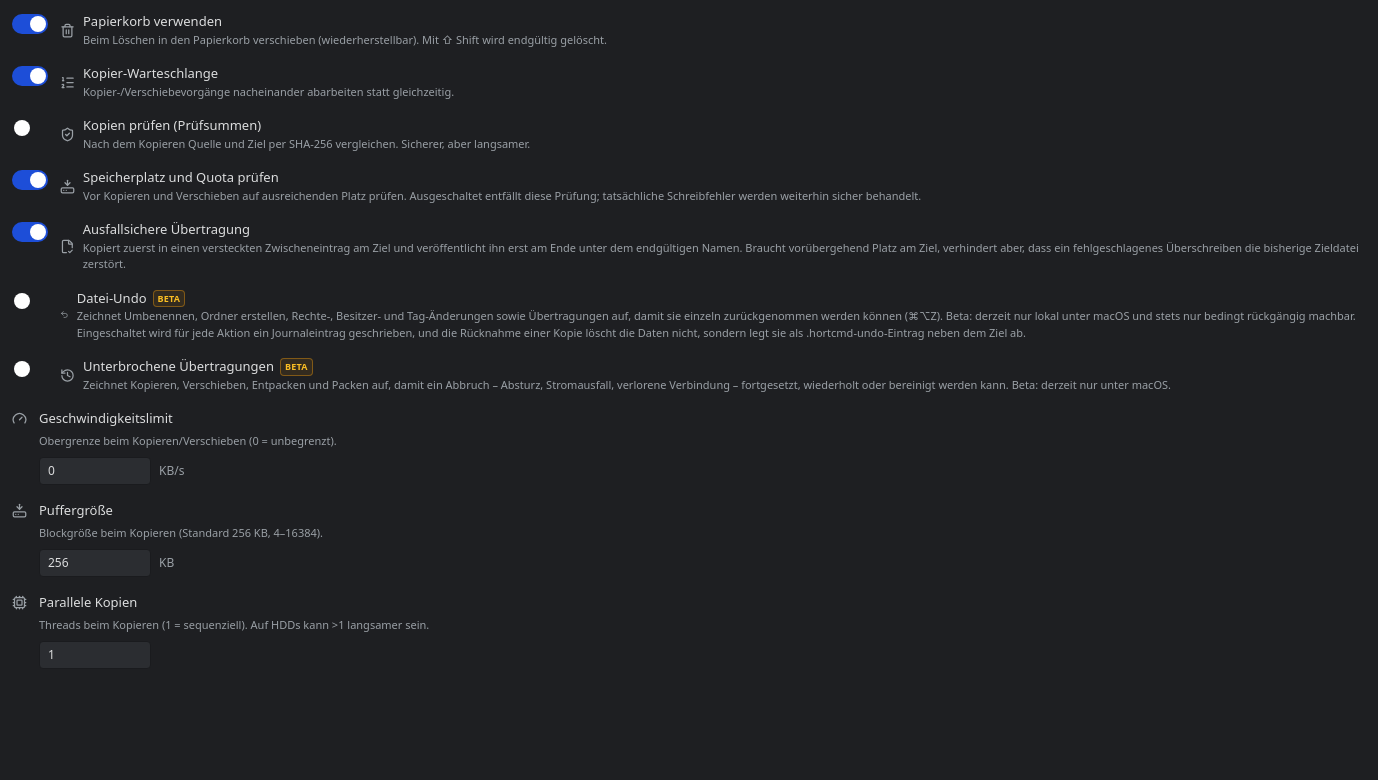
Test: File operations › offers file undo off, marked BETA, and warns once it is on
Expected: the label "Datei-Undo" shows "BETA", [158,292,180,304]
Click the switch named "Datei-Undo". click: (30, 300)
box: [12,290,48,310]
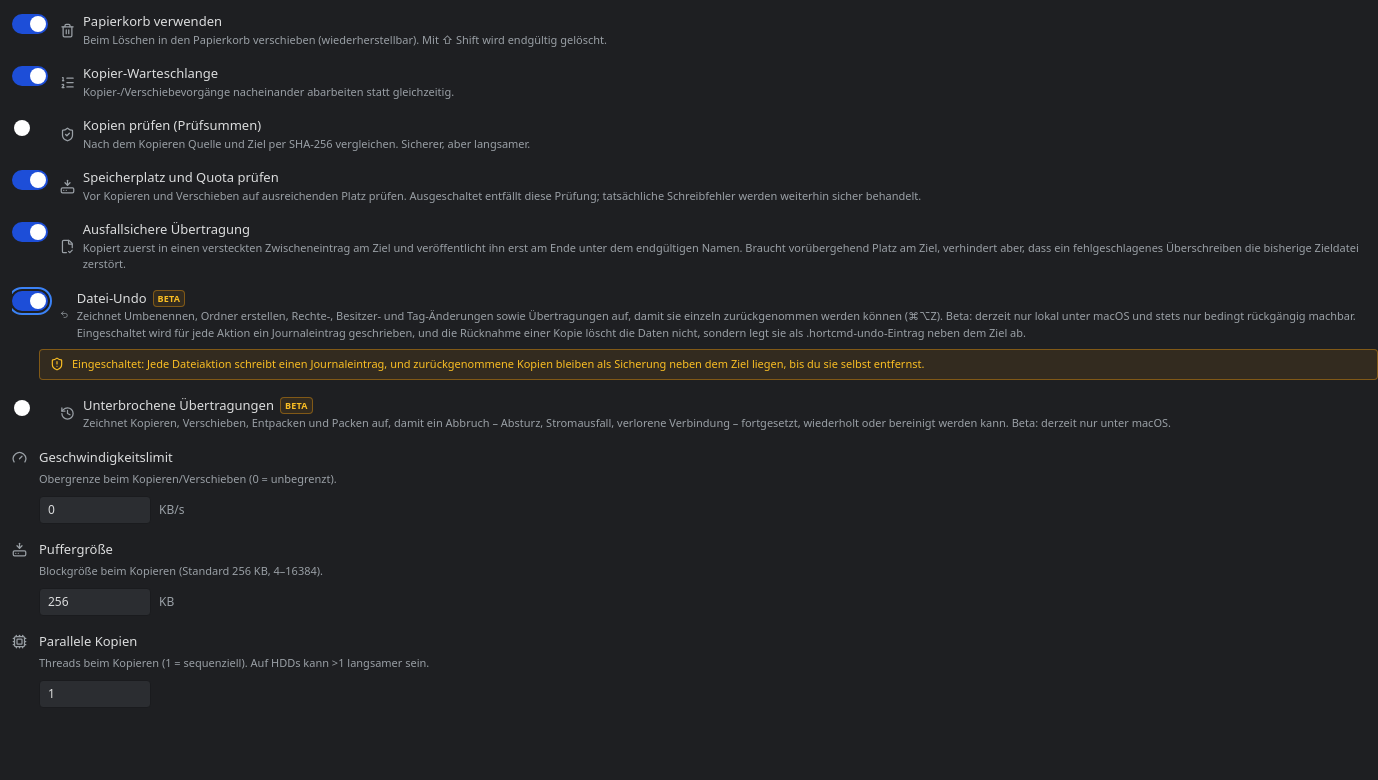
Expected: the text "Eingeschaltet: Jede Dateiaktion schreibt einen Journaleintrag, und zurückgenommene Kopien bleiben als Sicherung neben de" is shown, [72,356,924,371]
